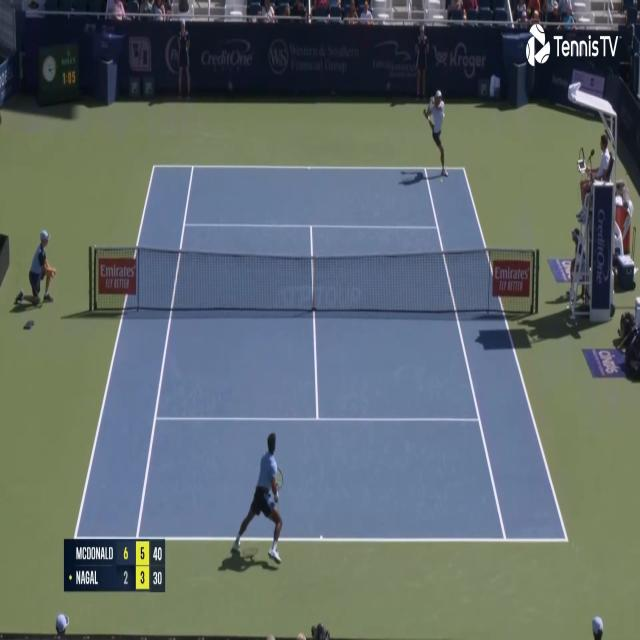tennis-player: (229, 426, 287, 570), (418, 84, 449, 180)
